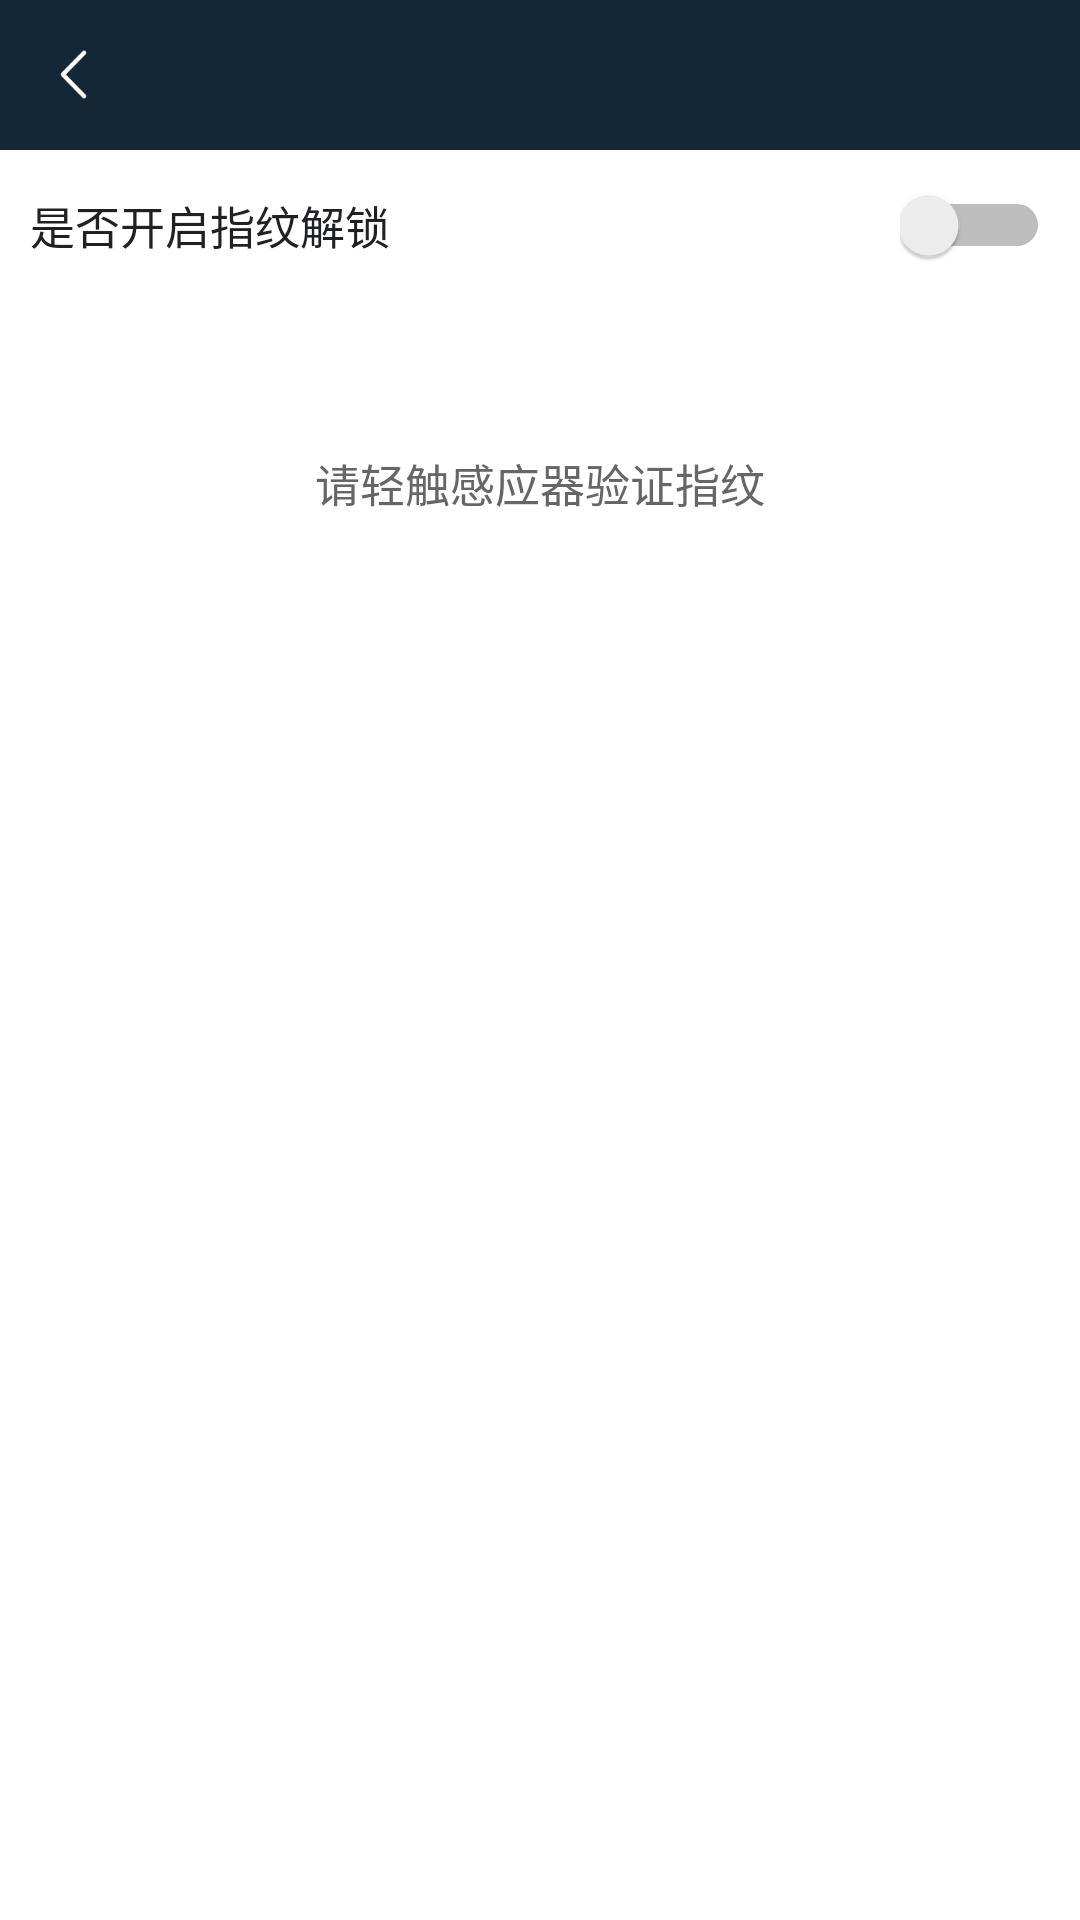

Locate icon controls on the screen. Image size 1080w x 1920h, boxes as [left=x1, top=y1, right=x2, bottom=y2].
left arrow: [left=60, top=50, right=87, bottom=99]
